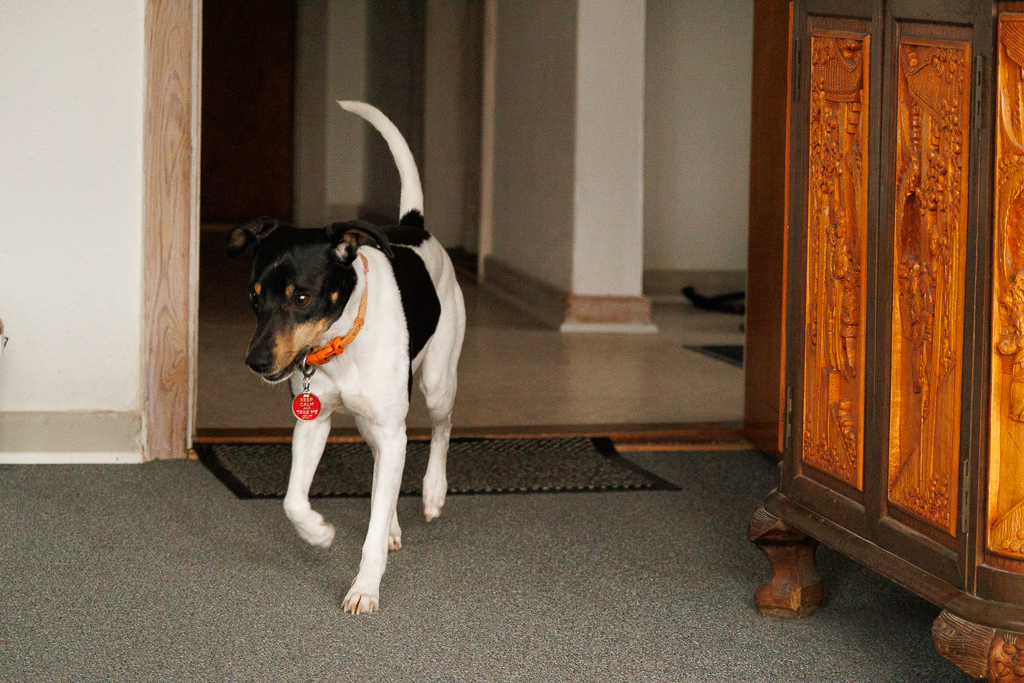Dog: (212, 84, 478, 622)
